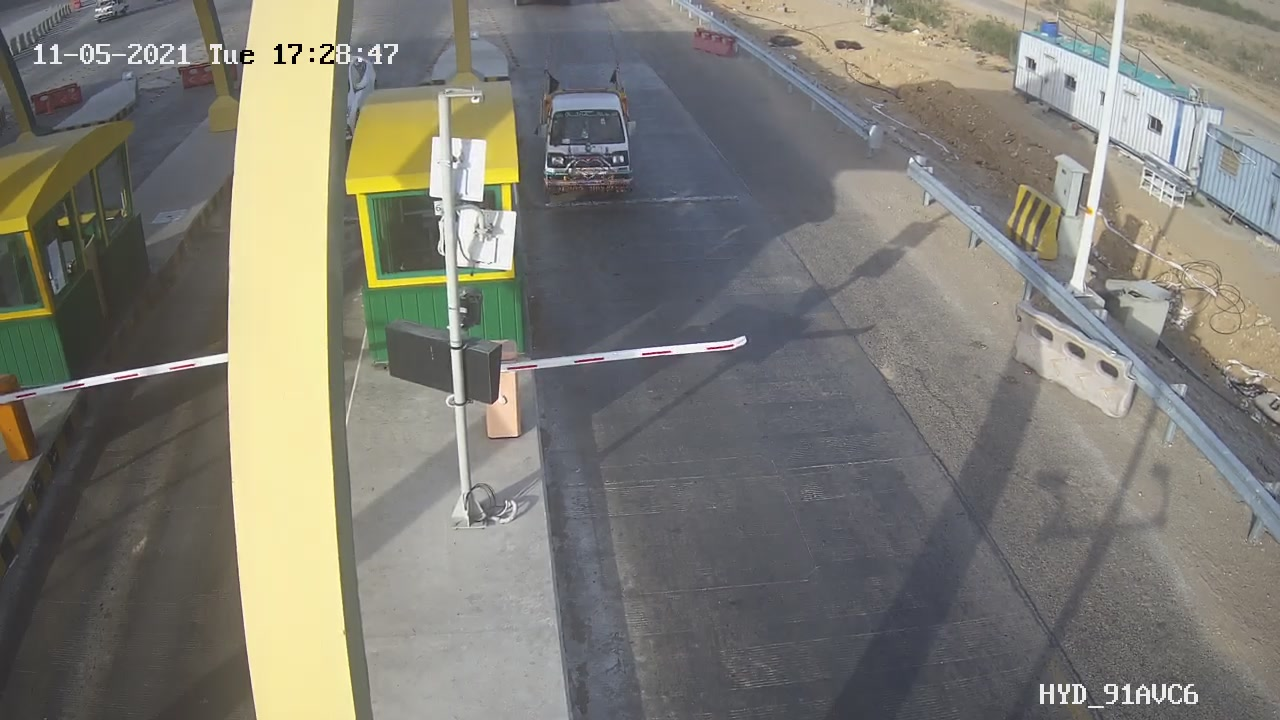F1: (522, 53, 659, 224)
